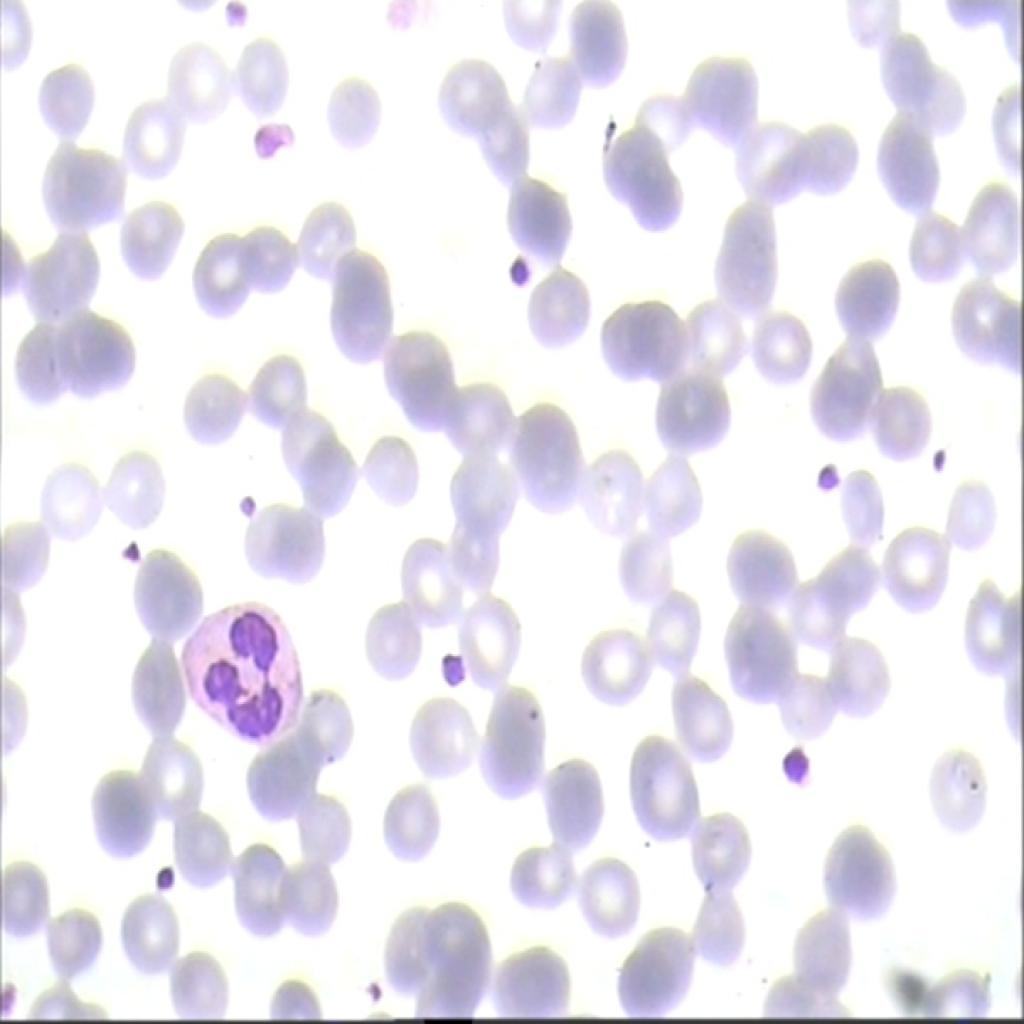Neutrofil: (169, 592, 307, 759)
Platelet: (244, 112, 304, 167), (428, 646, 472, 708), (778, 738, 816, 796), (805, 446, 850, 494), (148, 844, 189, 896), (222, 0, 263, 44), (358, 974, 396, 1020), (498, 250, 538, 290), (918, 443, 954, 485), (111, 526, 136, 571), (232, 482, 259, 519)
